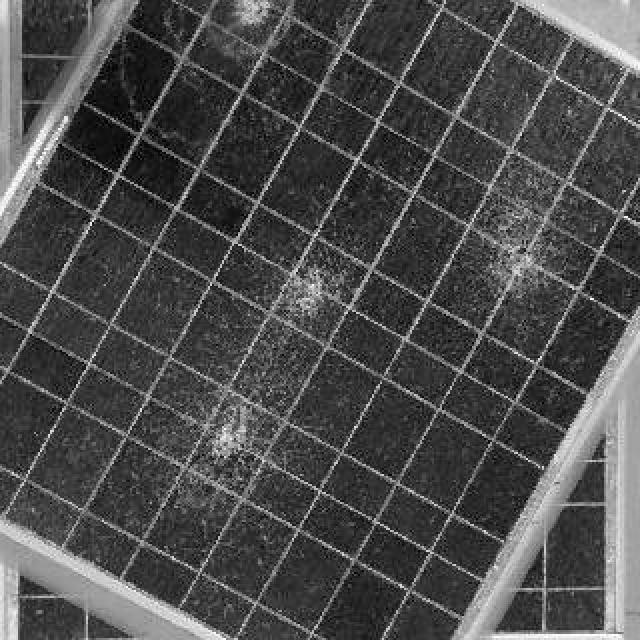Physical-damage: (470, 147, 598, 283), (160, 387, 310, 501), (242, 228, 368, 340), (167, 0, 322, 76)
